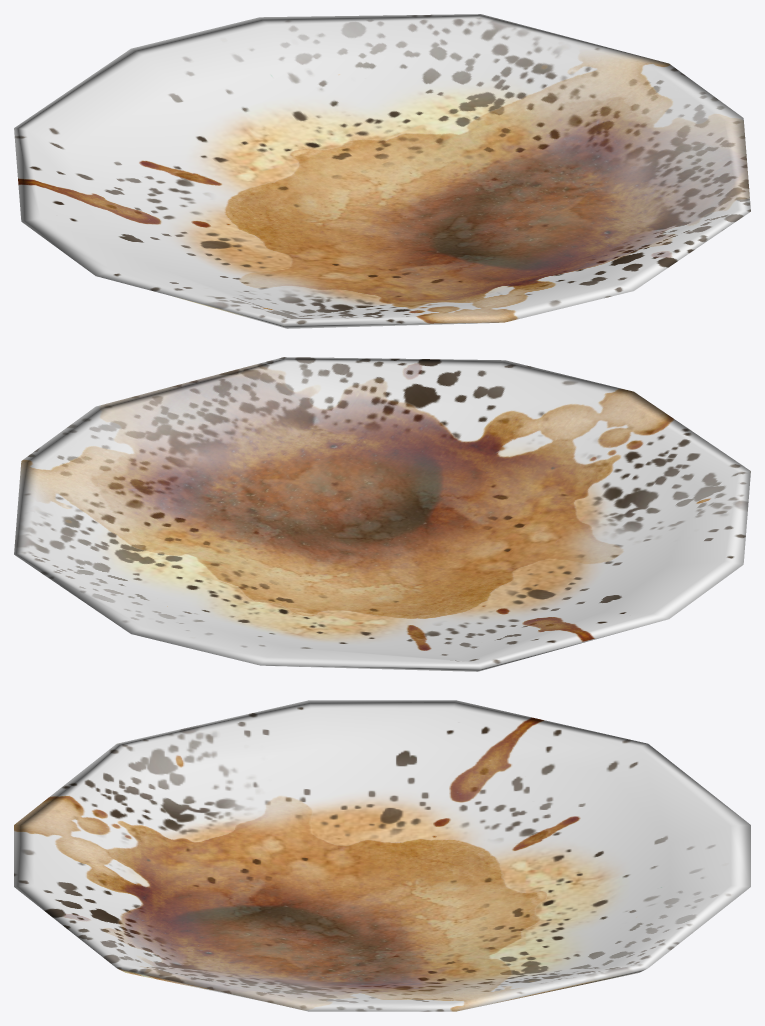
Rendered from Manky plate.FBX.
The picture shows the model from 3 angles, top to bottom: view 1: azimuth 30°, elevation 25°; view 2: azimuth 150°, elevation 25°; view 3: azimuth 270°, elevation 25°; orthographic projection.
Parts seen in each view (by area): view 1: Plate; view 2: Plate; view 3: Plate.
Boxes of the visible parts, x1,y1,x2,y2 form: Plate: (14,14,750,328); Plate: (14,357,750,671); Plate: (14,700,750,1011).
Size of the model in its own units: 11.4 by 0.9606 by 11.4.
Materials: 1 (1 with a texture image).
